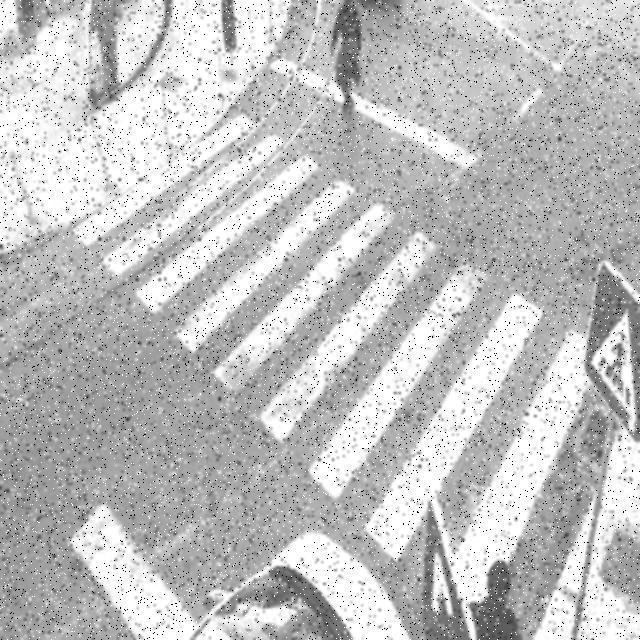crosswalk: (78, 113, 592, 639)
